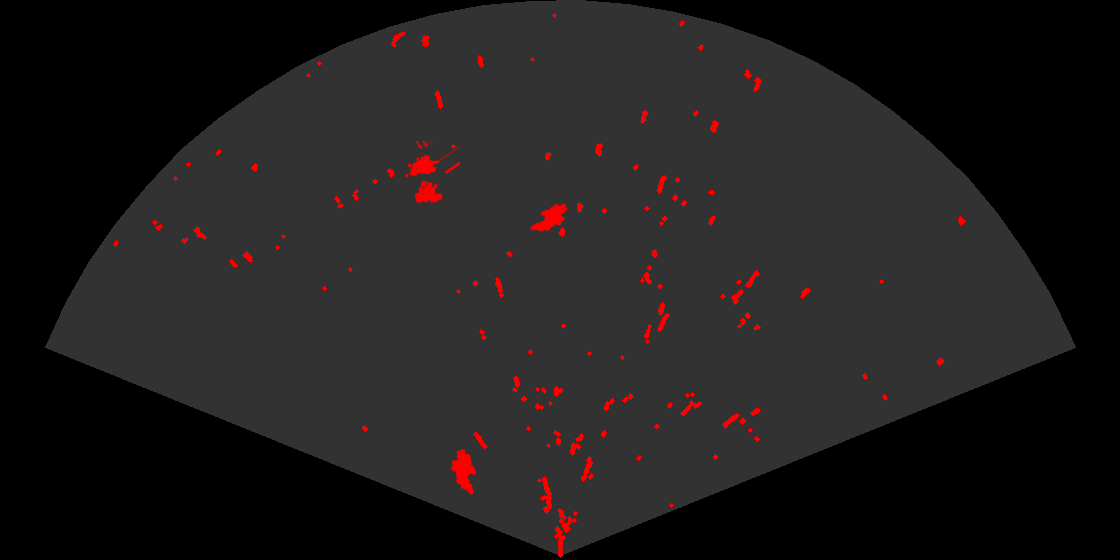AUV: (449, 447, 478, 496), (529, 202, 569, 234)
cage: (403, 141, 460, 205)
